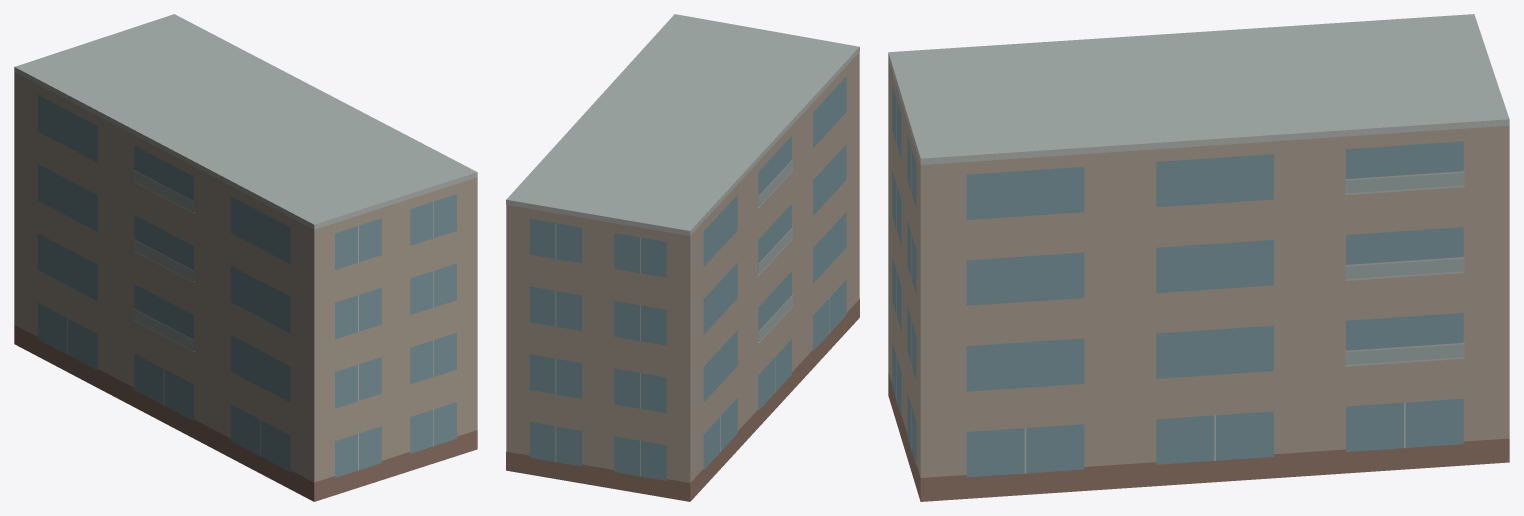
File: survey-upis-32706785.glb
The picture shows the model from 3 angles, left to right: view 1: azimuth 30°, elevation 25°; view 2: azimuth 150°, elevation 25°; view 3: azimuth 270°, elevation 25°; orthographic projection. The views are drawn at different scales.
Parts seen in each view (by area): view 1: survey-upis-32706785.tmp; view 2: survey-upis-32706785.tmp; view 3: survey-upis-32706785.tmp.
Boxes of the visible parts, bbox=[...] form: survey-upis-32706785.tmp: bbox=[14, 14, 477, 501]; survey-upis-32706785.tmp: bbox=[506, 14, 859, 501]; survey-upis-32706785.tmp: bbox=[888, 14, 1509, 501].
Bounding box in the file's own units: 11.95 × 13.2 × 21.66.
